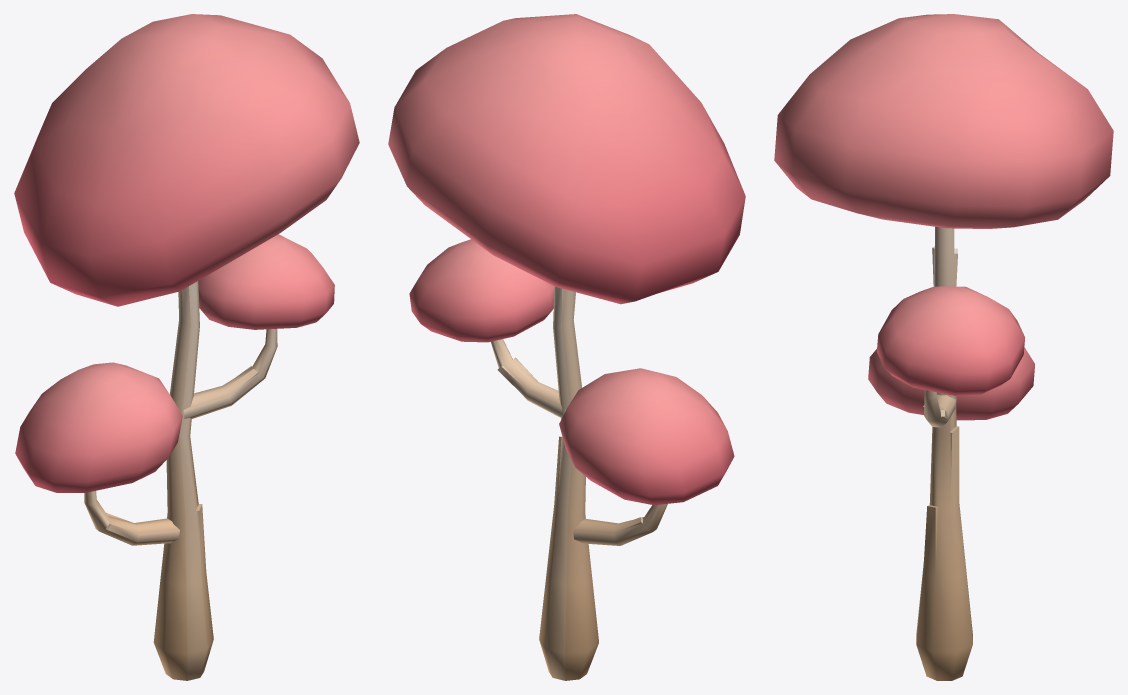
Rendered from Tree_7_B_Color8.fbx.
3 renders of one model, left to right at view 1: azimuth 30°, elevation 25°; view 2: azimuth 150°, elevation 25°; view 3: azimuth 270°, elevation 25°, orthographic. The views are drawn at different scales.
Visible parts, largest first — view 1: Tree_7_B_Color8; view 2: Tree_7_B_Color8; view 3: Tree_7_B_Color8.
Boxes of the visible parts, bbox=[...] form: Tree_7_B_Color8: bbox=[14, 14, 359, 680]; Tree_7_B_Color8: bbox=[388, 14, 745, 680]; Tree_7_B_Color8: bbox=[774, 14, 1113, 680].
Size of the model in its own units: 3.53 by 7.06 by 3.29.
